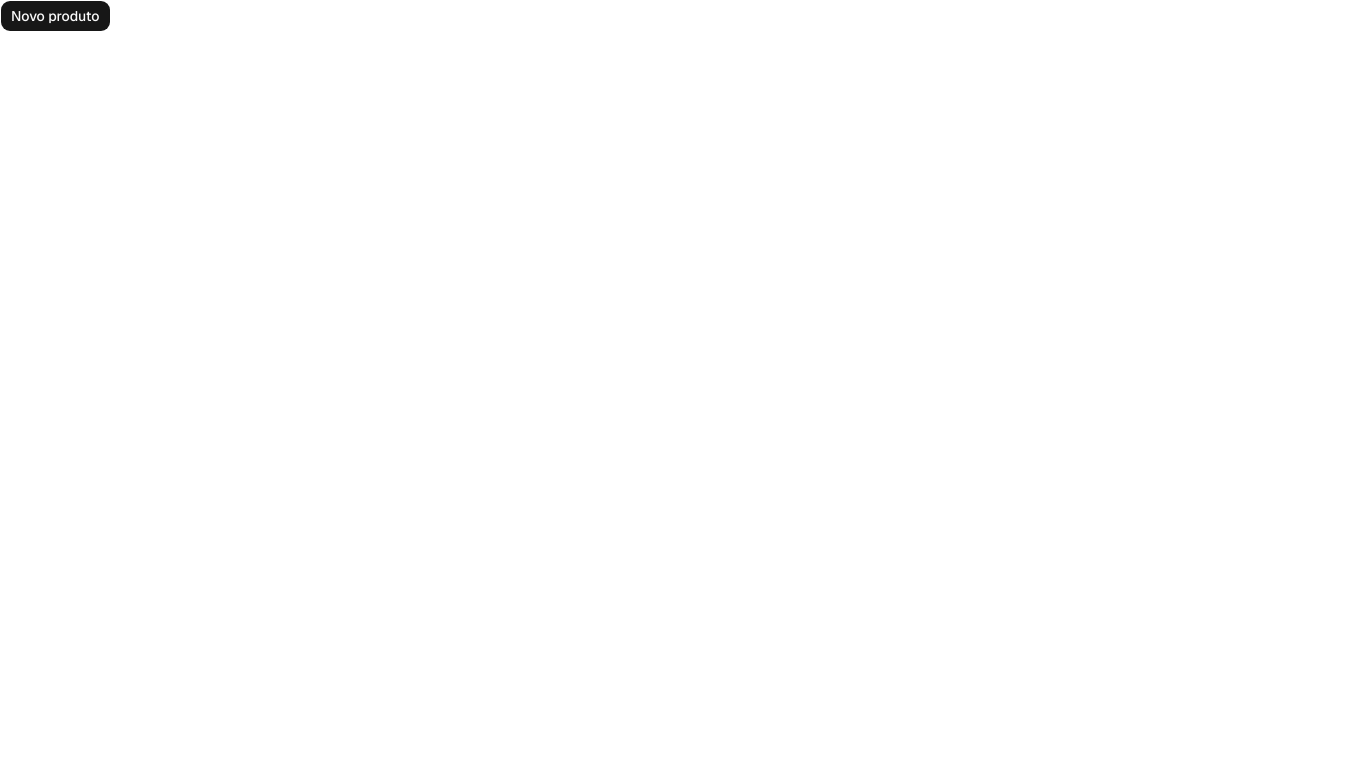
Test: CreateProductDialog › submits the chosen values and closes on success
Click the button "Novo produto" at (55, 16), box [0, 0, 110, 32]
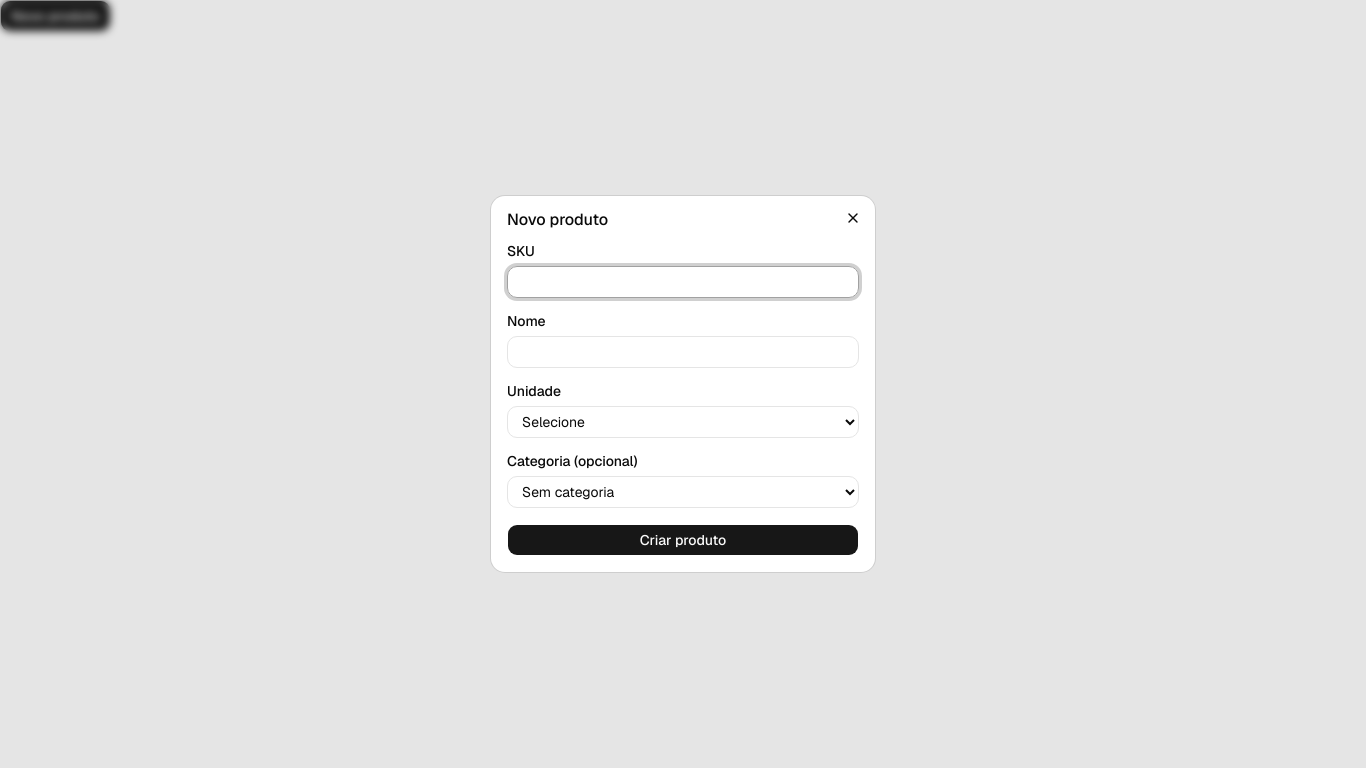
Expected: the dialog is shown, [491, 196, 875, 572]
Type "ab-1" into the field labelled "SKU" at (683, 282), box [507, 266, 859, 298]
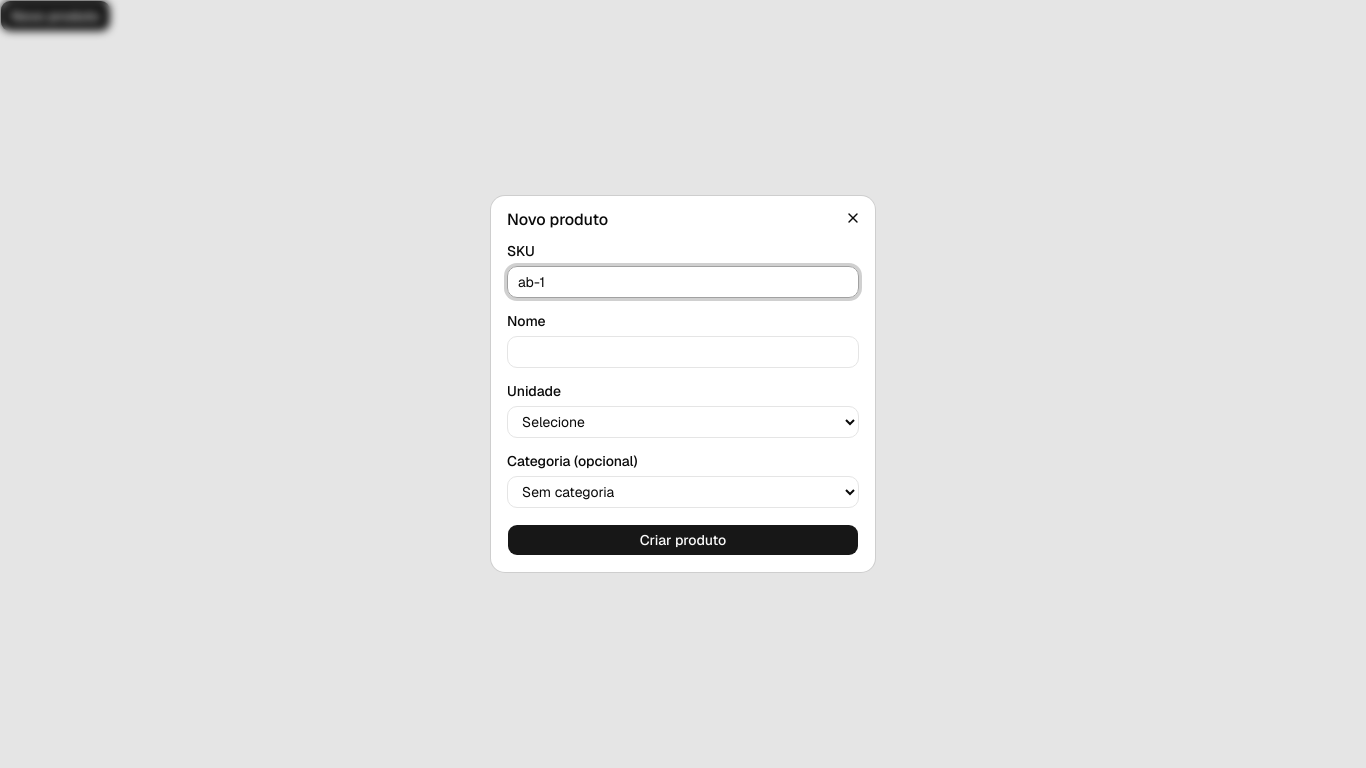
Type "Água" into the field labelled "Nome" at (683, 352), box [507, 336, 859, 368]
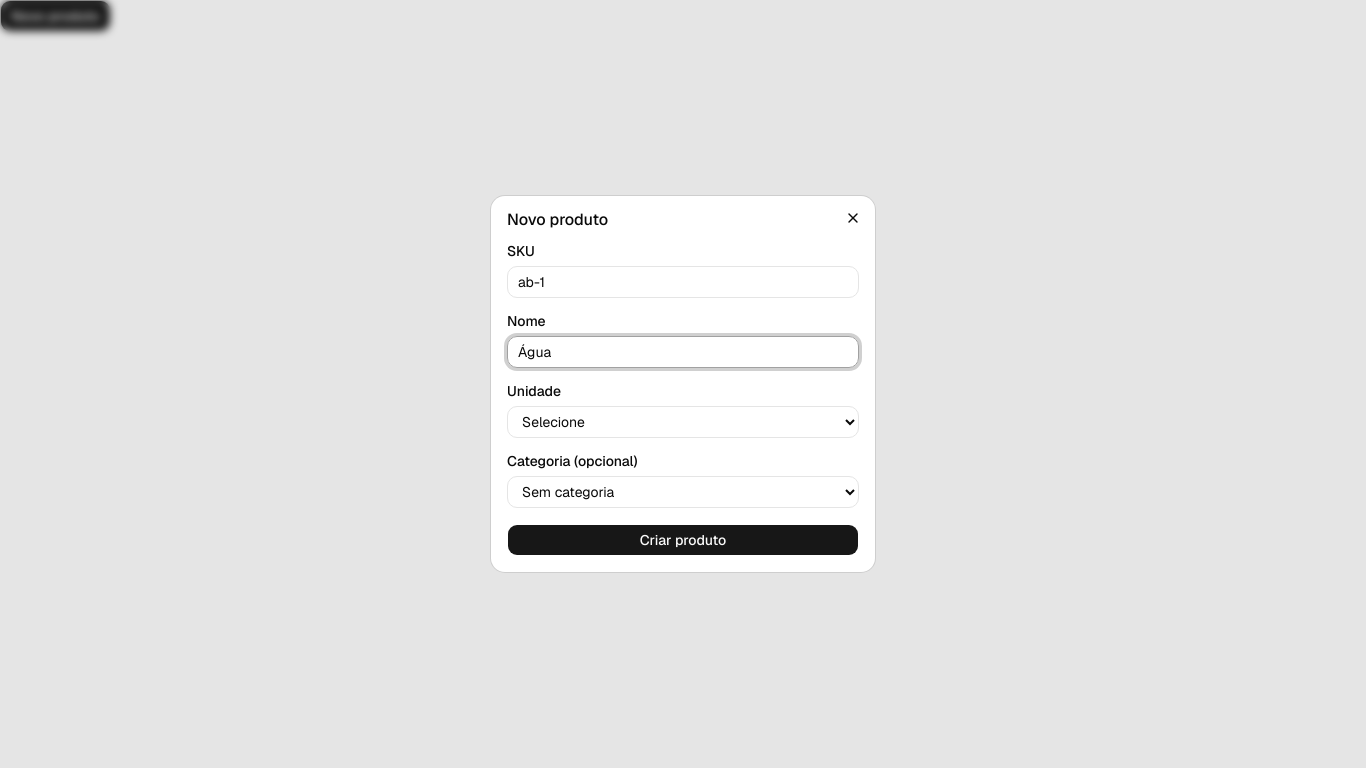
Select "Quilograma (KG)" in the dropdown labelled "Unidade" at (683, 422), box [507, 406, 859, 438]
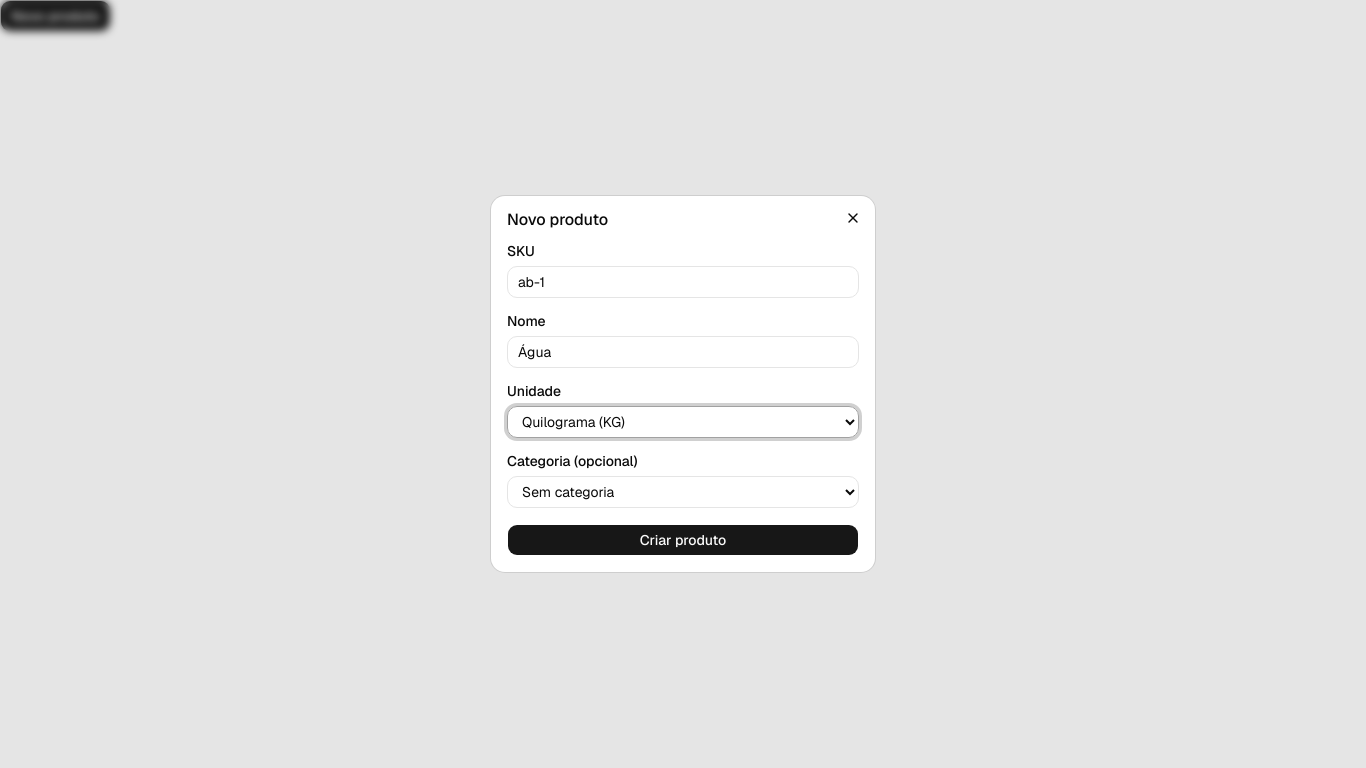
Select "Limpeza" in the dropdown labelled "Categoria (opcional)" at (683, 492), box [507, 476, 859, 508]
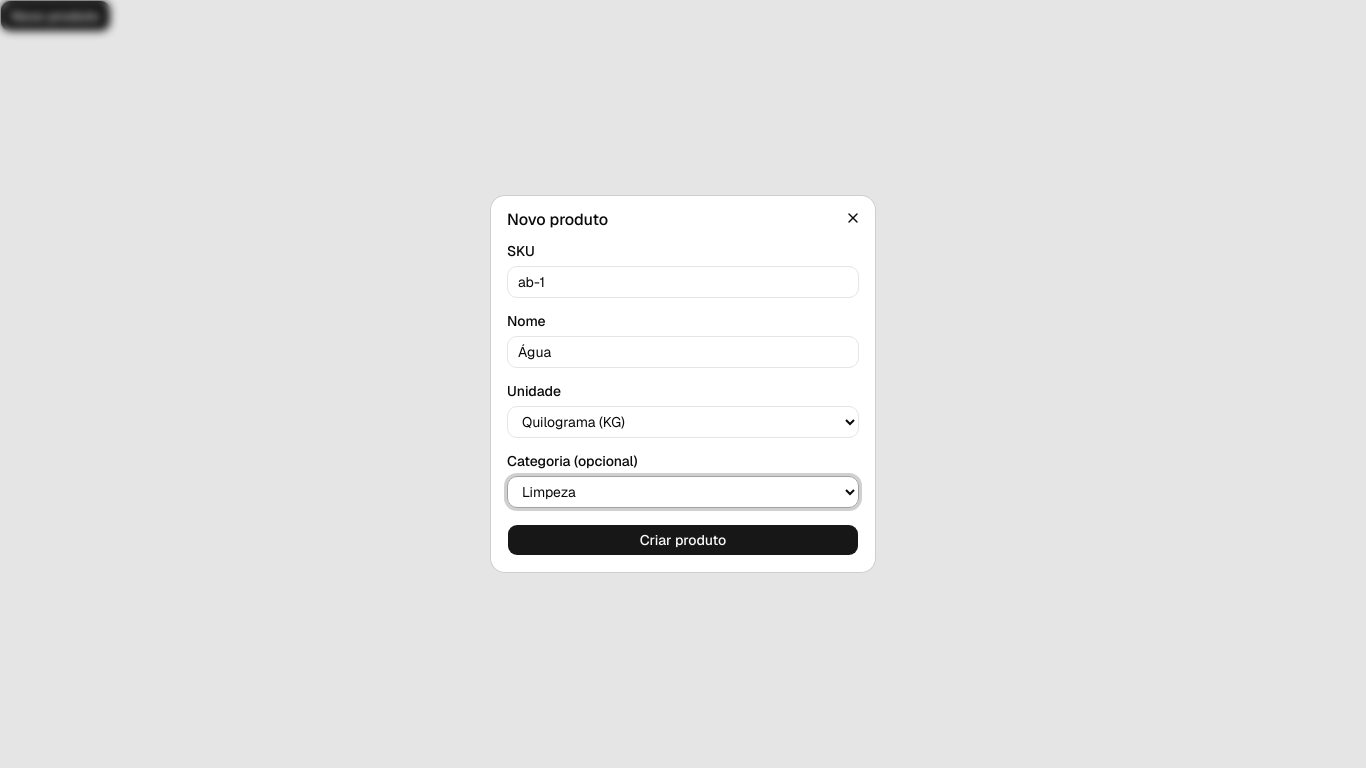
Click the button "Criar produto" at (683, 540), box [507, 524, 859, 556]
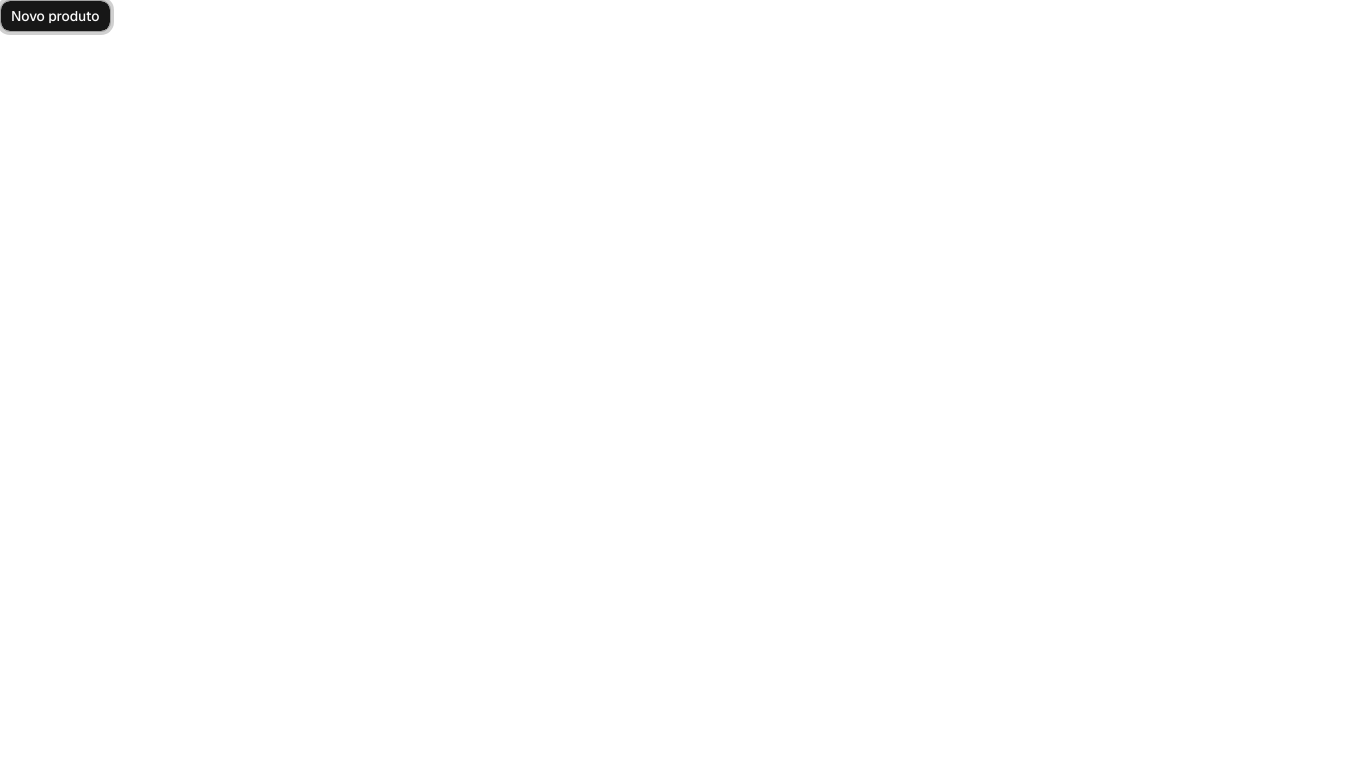
Expected: the dialog is gone
